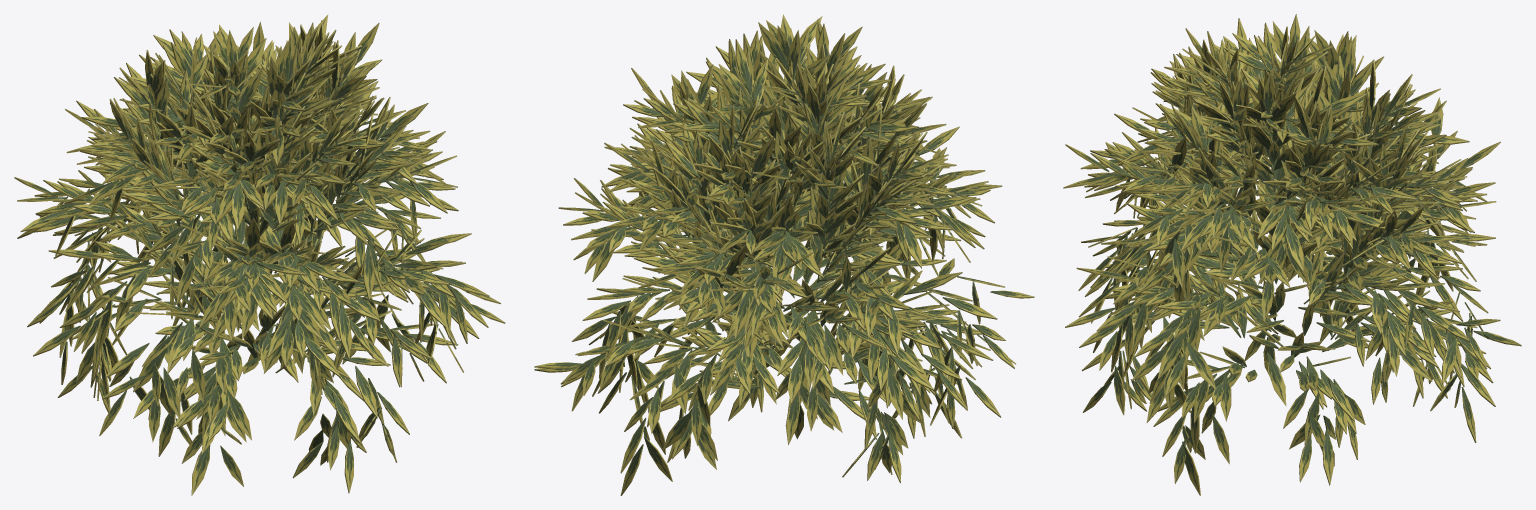
The model's file is Bush.fbx.
The picture shows the model from 3 angles, left to right: view 1: azimuth 30°, elevation 25°; view 2: azimuth 150°, elevation 25°; view 3: azimuth 270°, elevation 25°; orthographic projection. The views are drawn at different scales.
Parts seen in each view (by area): view 1: Bush_LOD0; view 2: Bush_LOD0; view 3: Bush_LOD0.
Part boxes in pixels (x1,y1,x2,y2): Bush_LOD0: [14, 14, 505, 495]; Bush_LOD0: [534, 14, 1034, 495]; Bush_LOD0: [1063, 14, 1521, 495].
Size of what is drawn, in the model's own units: 303 by 317 by 318.
Materials: 1 (1 with a texture image).
